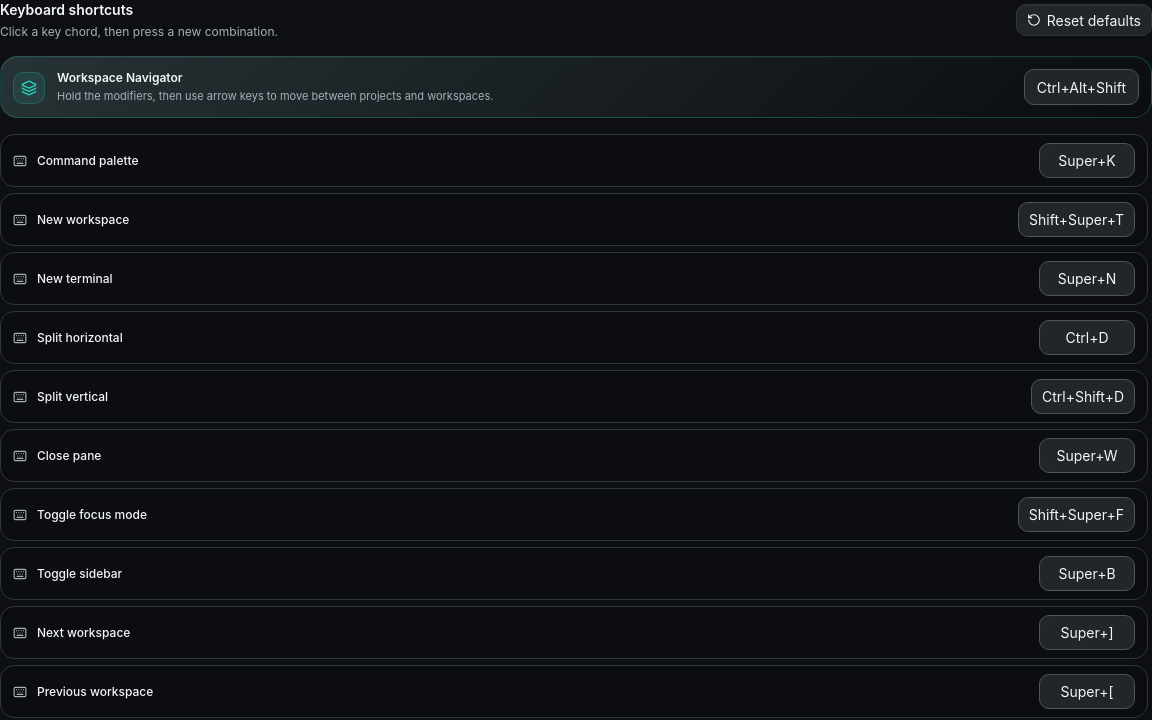
Test: ShortcutSettings › shows a recovery message when the navigator shortcut cannot be saved
Click the button with aria-label "Change workspace navigator shortcut" at [1081, 87], box x1=1024 y1=69 x2=1139 y2=105
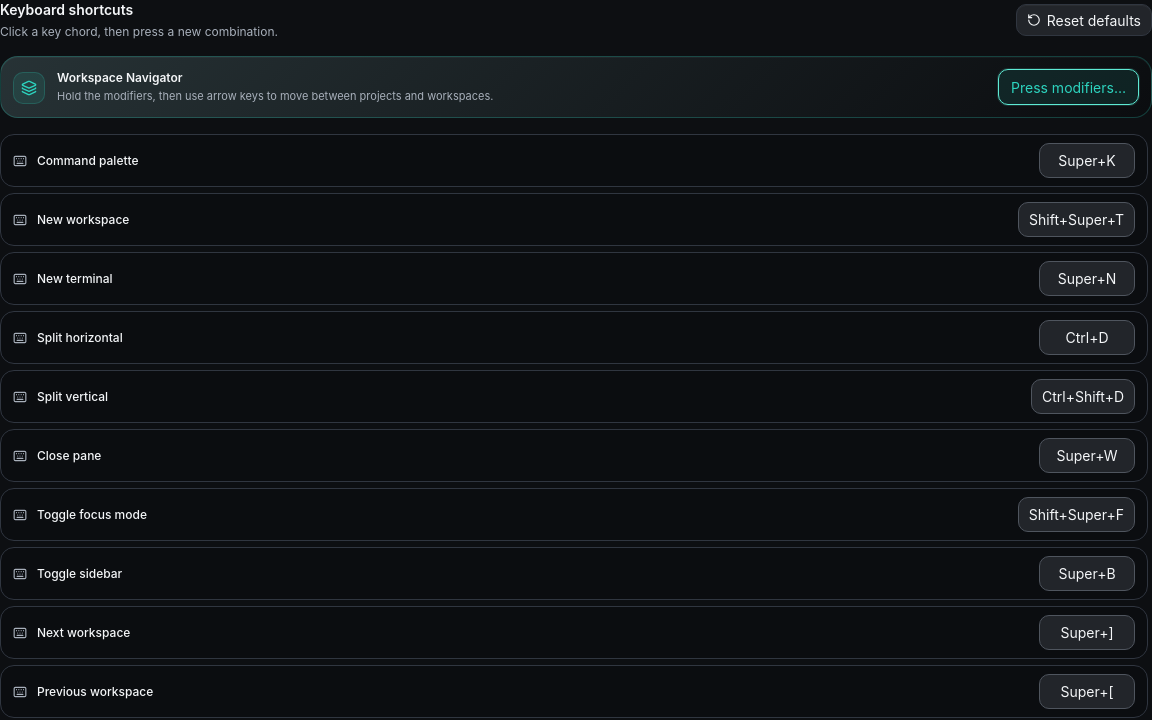
Press Meta
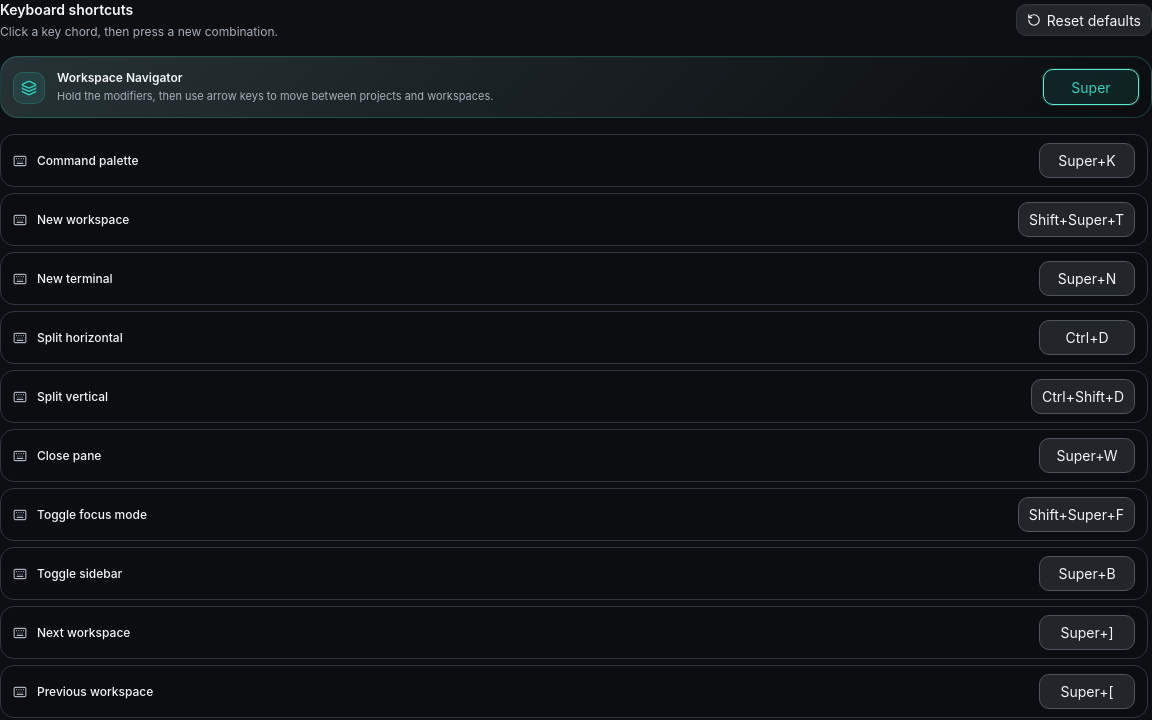
Press Shift
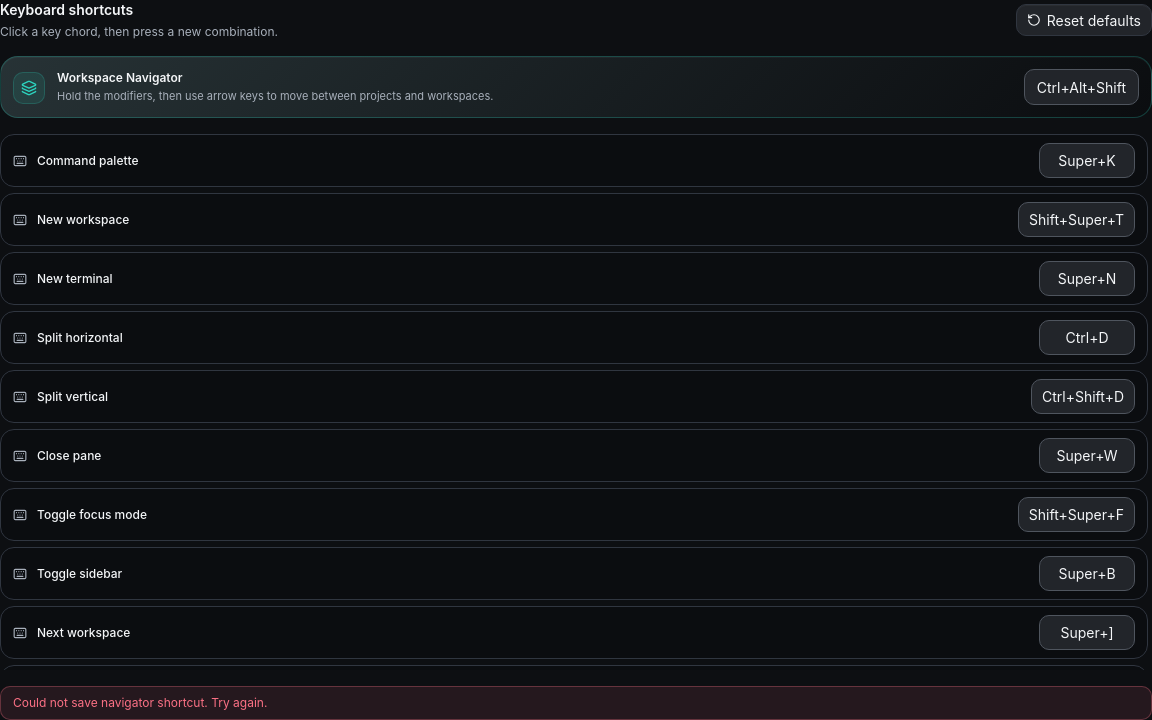
Expected: the message reads "Could not save navigator shortcut. Try again.", x1=13 y1=695 x2=267 y2=710
